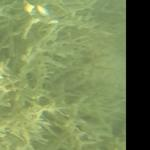dead: (1, 1, 125, 147)
